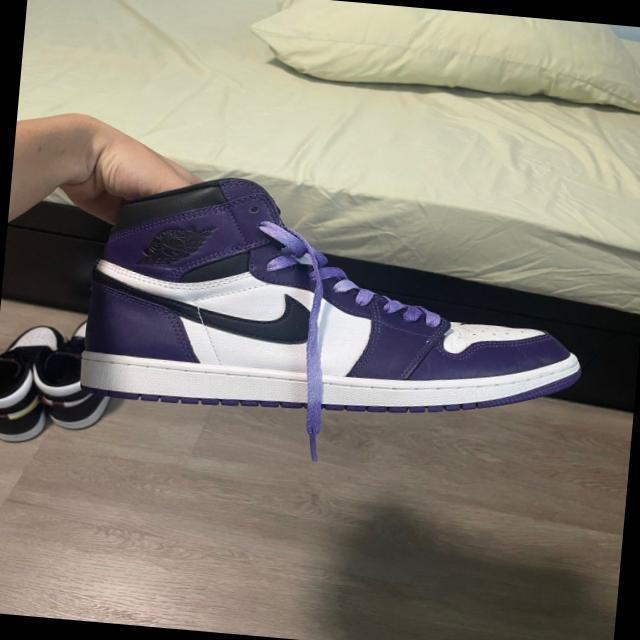nike original jordan 1: (68, 164, 603, 443)
